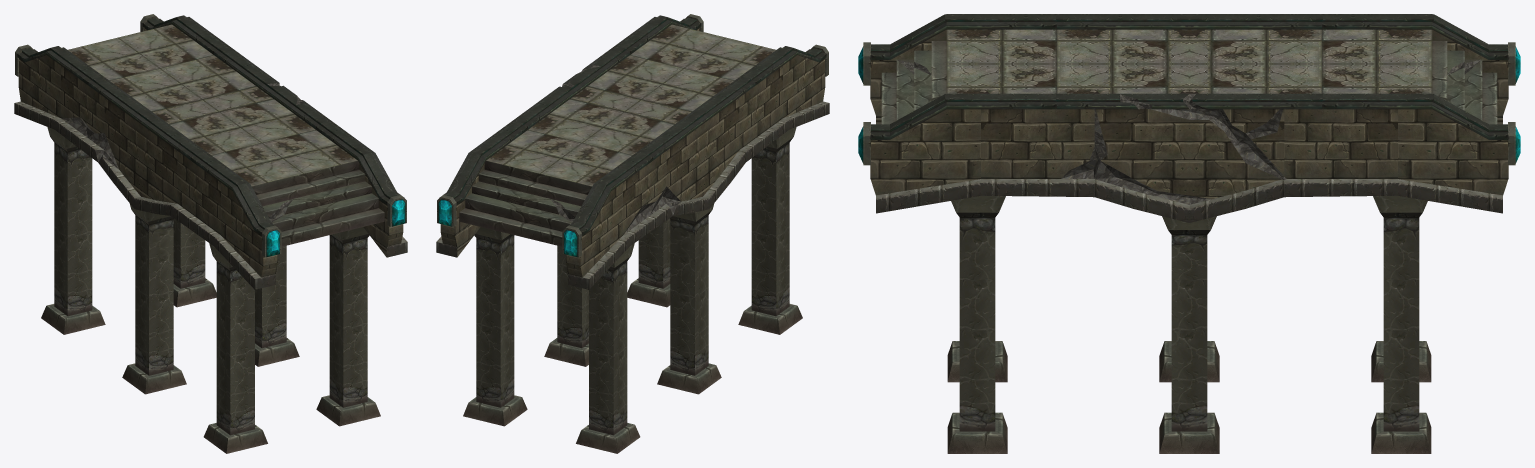
File: F_lianjieqiao001.fbx
3 renders of one model, left to right at view 1: azimuth 30°, elevation 25°; view 2: azimuth 150°, elevation 25°; view 3: azimuth 270°, elevation 25°, orthographic. The views are drawn at different scales.
Visible parts, largest first — view 1: F_lianjieqiao001; view 2: F_lianjieqiao001; view 3: F_lianjieqiao001.
Boxes of the visible parts, x1,y1,x2,y2 form: F_lianjieqiao001: (14,14,407,453); F_lianjieqiao001: (436,14,829,453); F_lianjieqiao001: (858,14,1520,453).
Size of the model in its own units: 552 by 911 by 1571.
